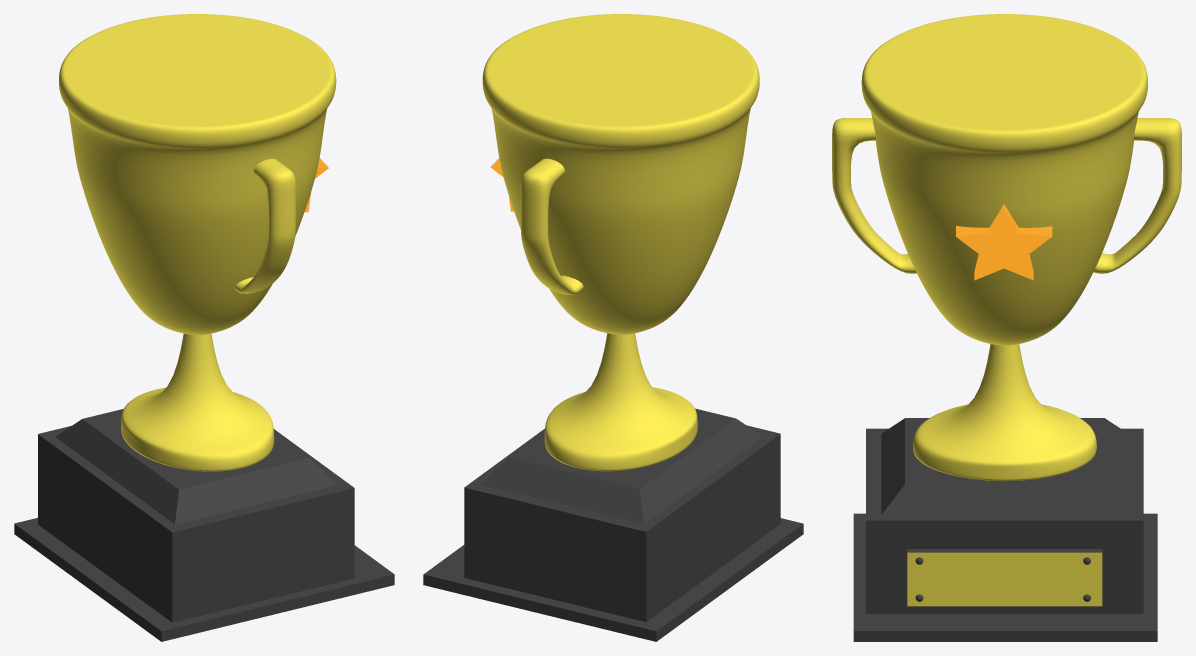
The model's file is trophy.glb.
3 renders of one model, left to right at view 1: azimuth 30°, elevation 25°; view 2: azimuth 150°, elevation 25°; view 3: azimuth 270°, elevation 25°, orthographic. The views are drawn at different scales.
Parts seen in each view (by area): view 1: Cylinder; view 2: Cylinder; view 3: Cylinder.
Boxes of the visible parts, x1,y1,x2,y2 form: Cylinder: (14, 14, 394, 641); Cylinder: (423, 14, 803, 641); Cylinder: (832, 14, 1181, 641).
Size of the model in its own units: 0.2765 by 0.5316 by 0.3325.
